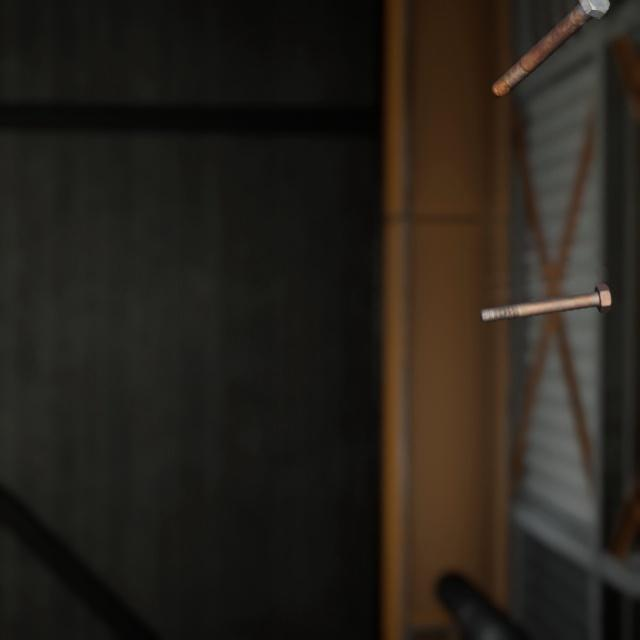bolt: (487, 0, 612, 92), (475, 261, 616, 309)
